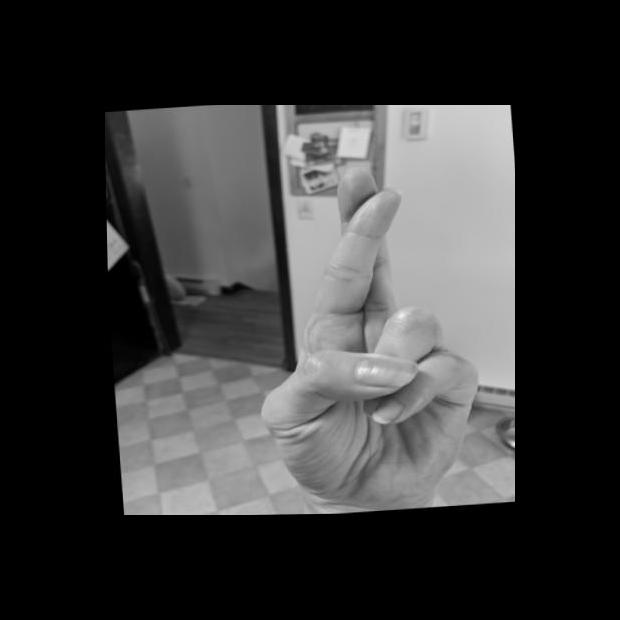Q: (236, 156, 490, 515)
